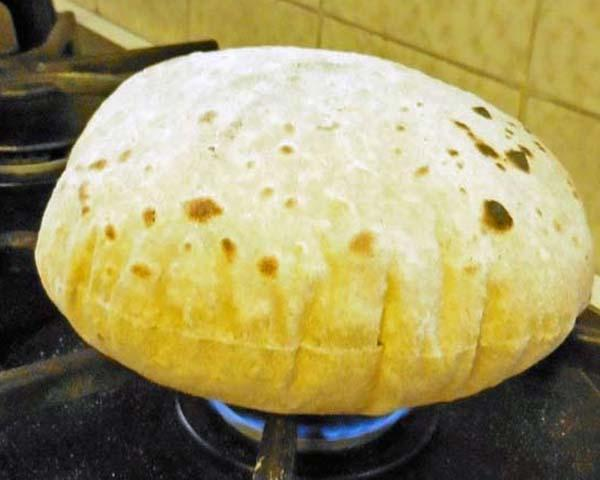roti: (31, 47, 595, 413)
